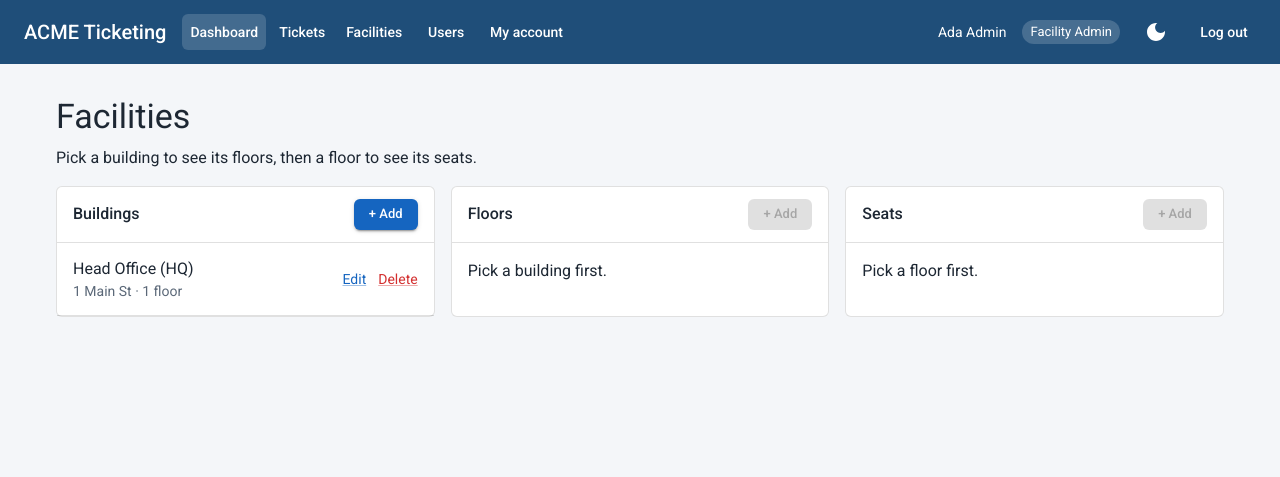
it: FacilitiesPage › picking a building shows its manager and floors; picking a floor shows its seats
Click the text "Head Office (HQ)" at point(133, 268), box [73,259,194,278]
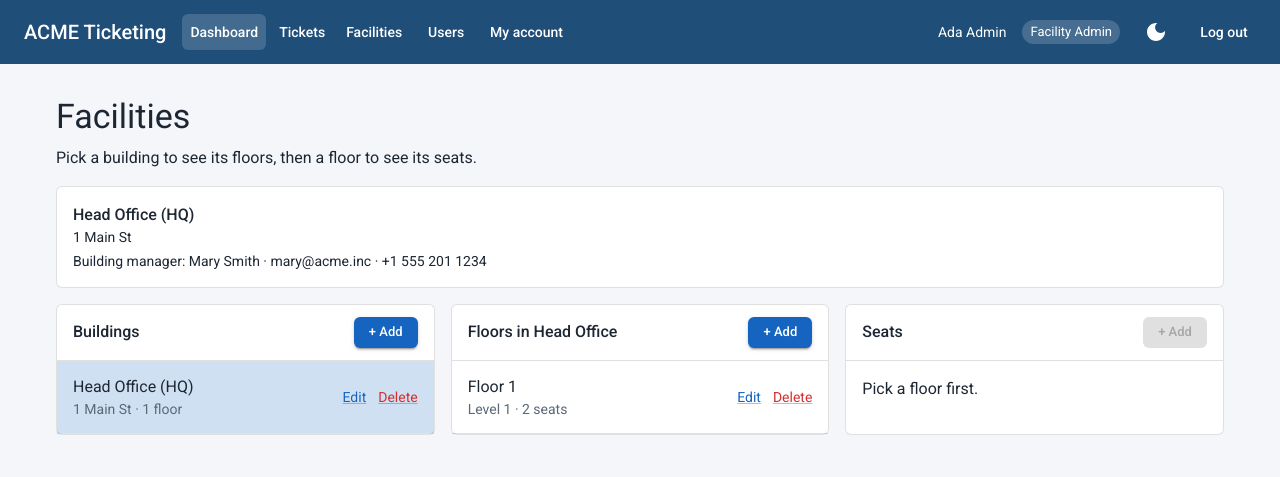
Click the text "Floor 1" at point(492, 386), box [468,377,517,396]
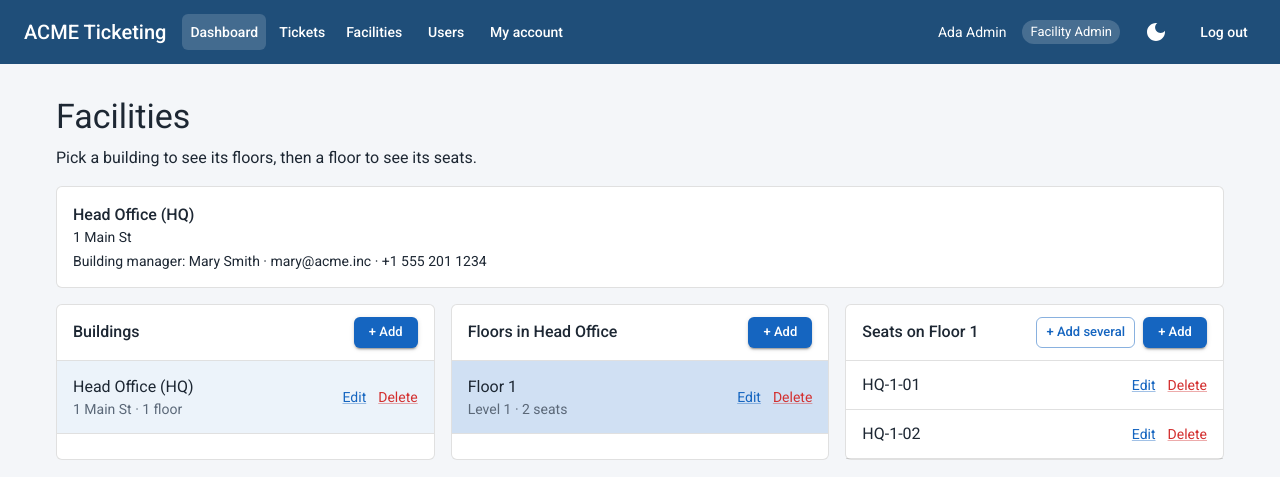
Now the text "Building manager: Mary Smith · mary@acme.inc · +1 555 201 1234" is shown, box [73,253,487,269]
Now the text "HQ-1-01" is shown, box [862,375,921,394]
Now the heading "Seats on Floor 1" is shown, box [862,322,978,341]
